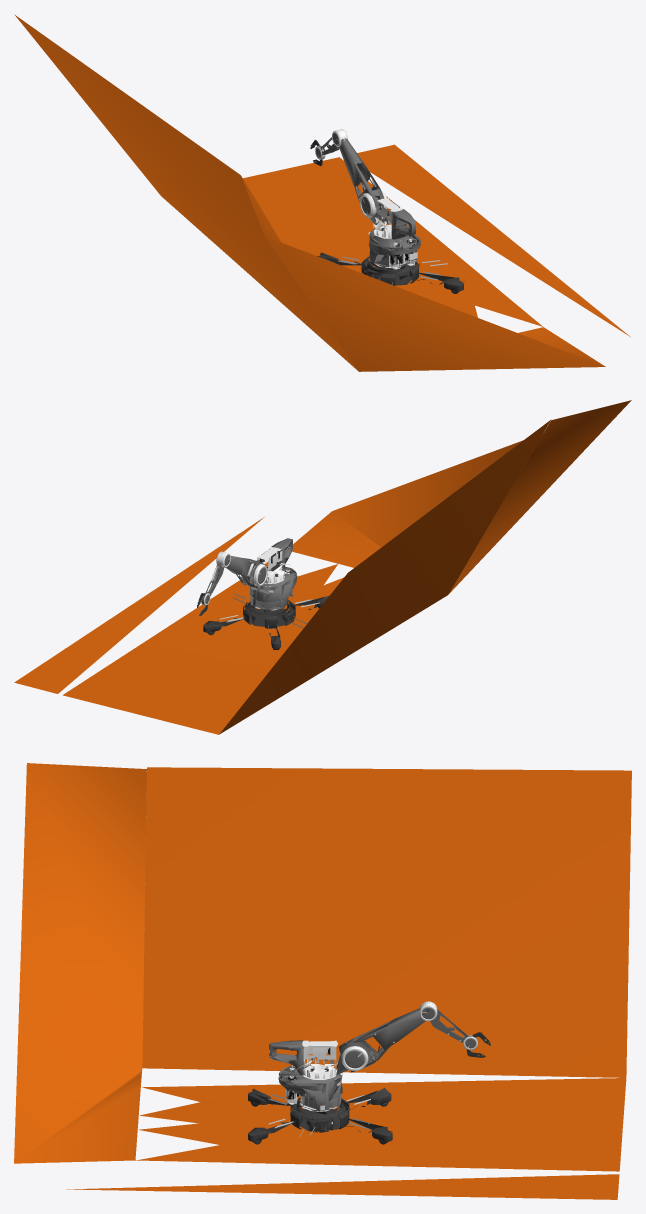
The model's file is robotic-arm.glb.
3 views of the same model, one above another, from view 1: azimuth 30°, elevation 25°; view 2: azimuth 150°, elevation 25°; view 3: azimuth 270°, elevation 25° (orthographic). The views are drawn at different scales.
Parts seen in each view (by area): view 1: Object_93, Object_3, Object_5; view 2: Object_93, Object_3, Object_5; view 3: Object_93, Object_3, Object_5.
Part boxes in pixels (x1,y1,x2,y2): Object_93: [14, 14, 630, 371]; Object_3: [310, 133, 464, 293]; Object_5: [315, 129, 447, 284]; Object_93: [14, 400, 631, 734]; Object_3: [197, 538, 329, 649]; Object_5: [201, 547, 319, 631]; Object_93: [14, 763, 631, 1199]; Object_3: [248, 1007, 490, 1144]; Object_5: [268, 1001, 477, 1137].
Size of the model in its own units: 1.71 by 0.9011 by 2.1.
Materials: 4 (4 with a texture image).
